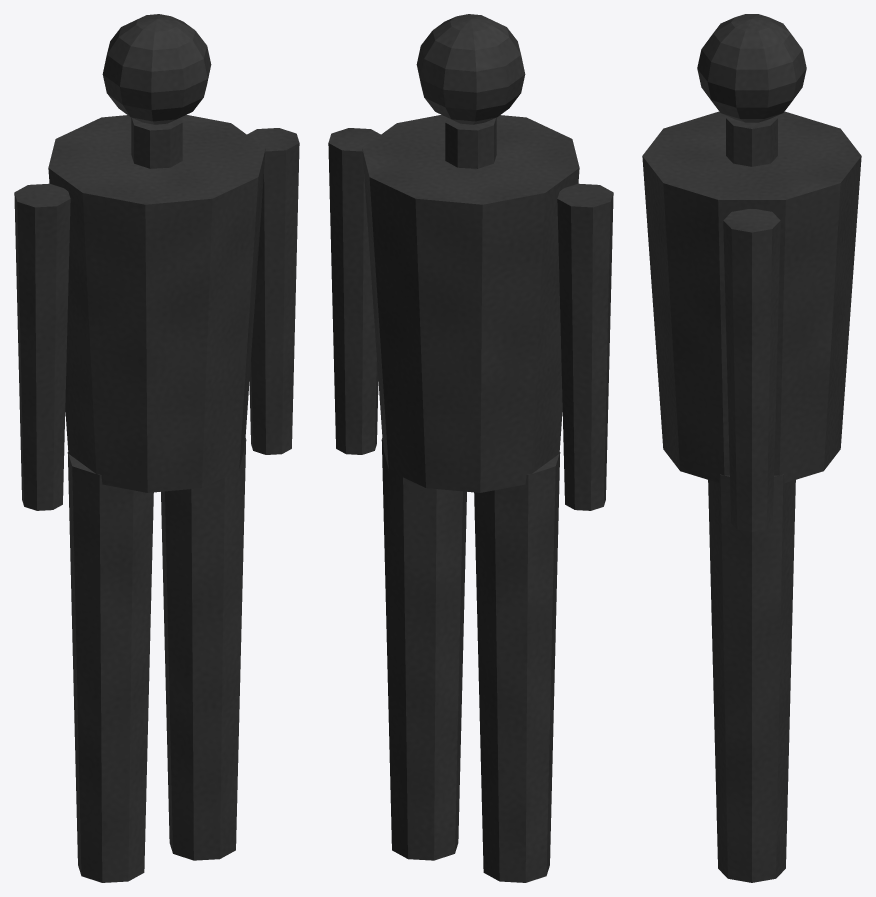
The model's file is ScaleFigure_1_75m.fbx.
3 views of the same model, side by side, from view 1: azimuth 30°, elevation 25°; view 2: azimuth 150°, elevation 25°; view 3: azimuth 270°, elevation 25° (orthographic).
Parts seen in each view (by area): view 1: ScaleFigure_Mesh; view 2: ScaleFigure_Mesh; view 3: ScaleFigure_Mesh.
Boxes of the visible parts, x1,y1,x2,y2 form: ScaleFigure_Mesh: (14, 14, 299, 882); ScaleFigure_Mesh: (328, 14, 613, 882); ScaleFigure_Mesh: (642, 14, 861, 882).
Size of the model in its own units: 0.61 by 1.75 by 0.42.
